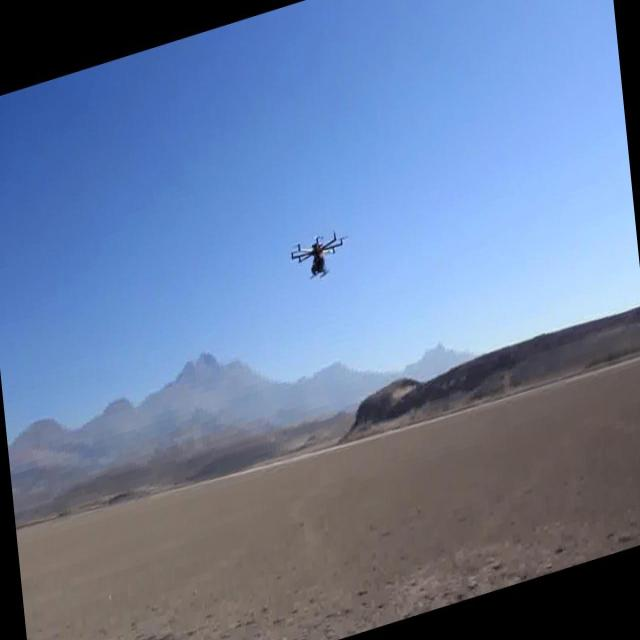drone: (288, 222, 350, 288)
